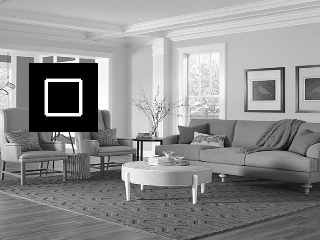square: (29, 63, 98, 132)
